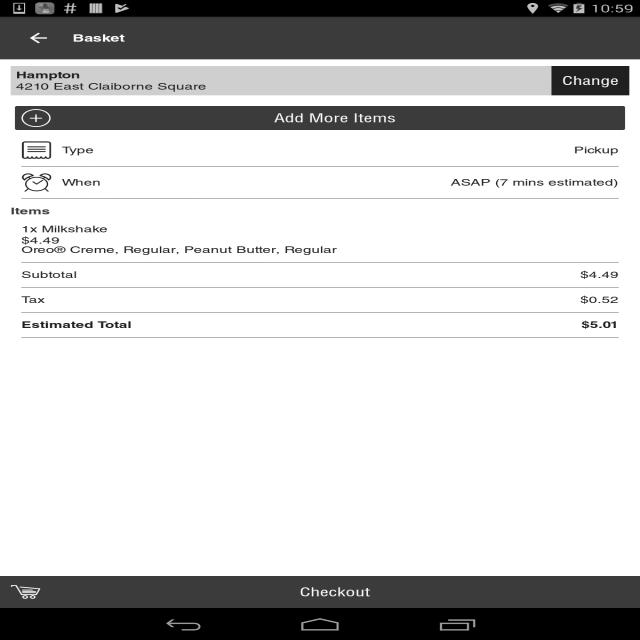Button: (11, 102, 629, 134)
ImageButton: (9, 19, 68, 57)
TextView: (0, 576, 640, 608), (11, 166, 440, 198), (105, 138, 630, 162), (21, 235, 619, 255), (11, 66, 552, 81), (11, 81, 552, 95), (44, 294, 618, 305), (22, 269, 580, 280), (22, 319, 580, 330), (440, 170, 629, 195), (10, 134, 104, 166), (22, 223, 108, 235), (562, 73, 619, 88), (72, 32, 125, 44), (11, 205, 50, 217), (580, 269, 619, 280), (580, 319, 619, 330), (21, 294, 45, 305)
